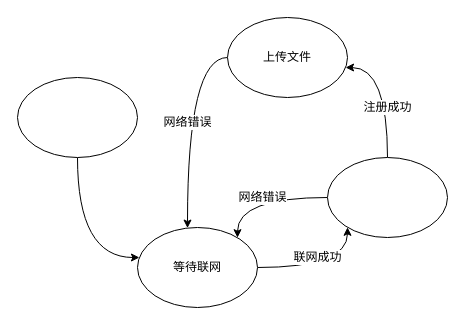
The diagram is 465 pixels wide and 325 high, and some of its shapes have lost their labels. The shapes that lost their labels are listed below. From the top down, each one's box as (x1, y1, x2, y2) in pixels, then its label:
(16, 76, 138, 158): 就绪
(326, 156, 448, 238): 注册硬件
